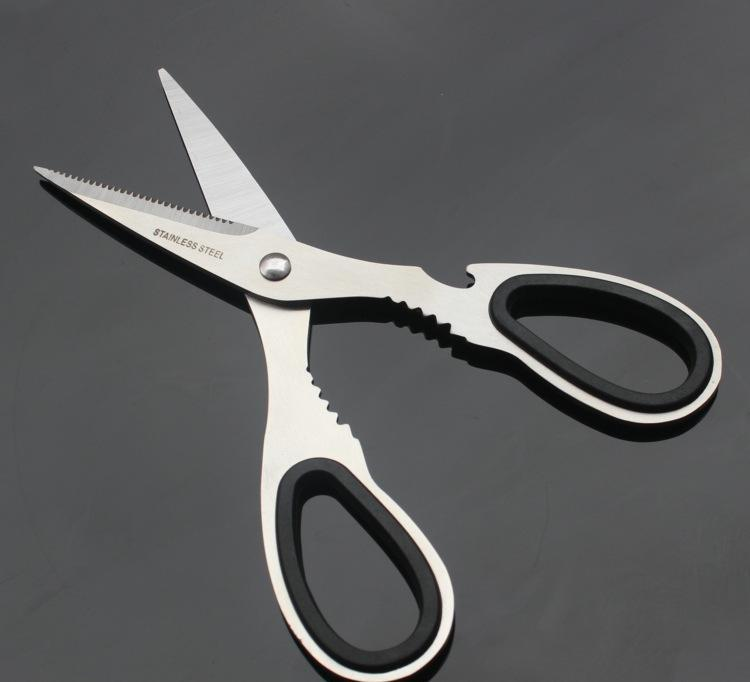scissor: (63, 84, 713, 625)
